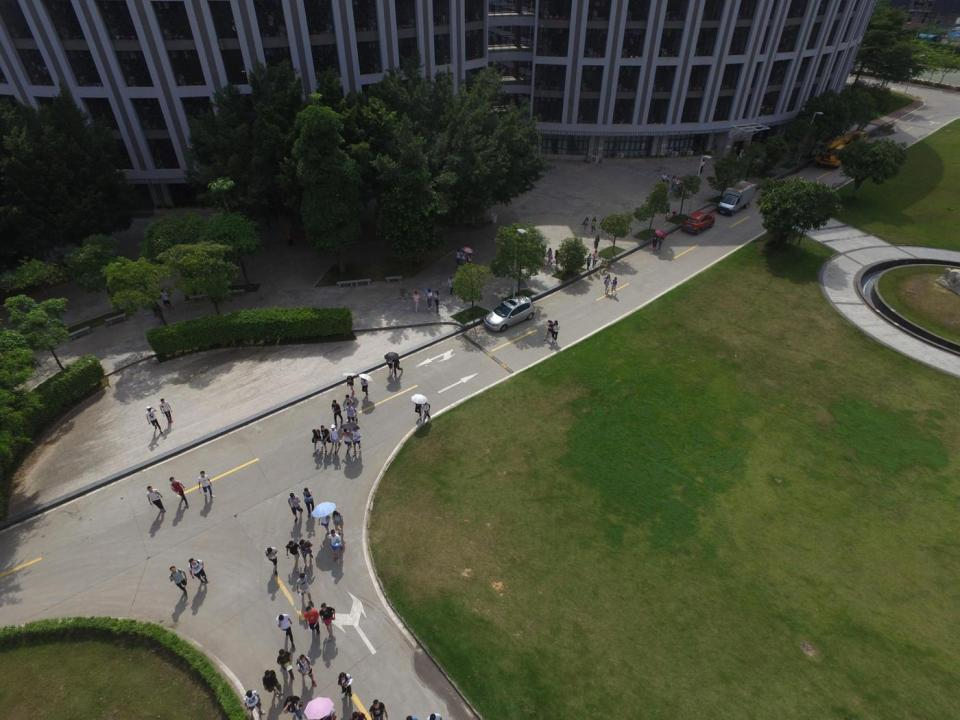car: (484, 295, 534, 332), (680, 211, 716, 235)
truck: (716, 180, 758, 216)
